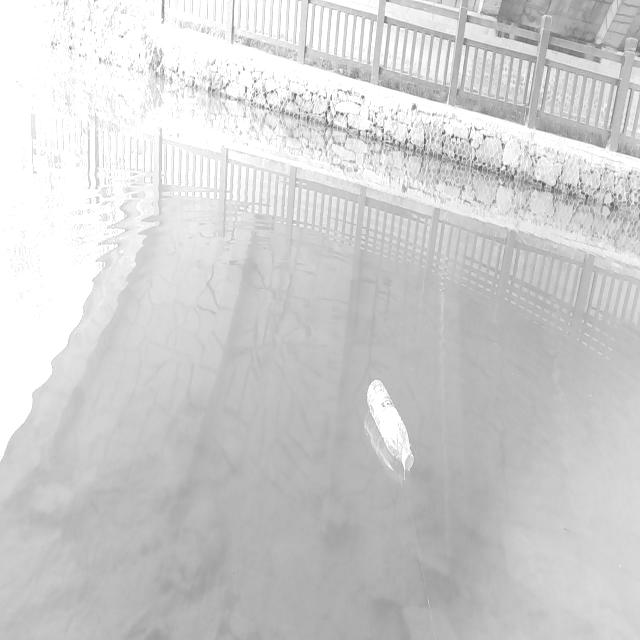bottle: (348, 363, 426, 492)
